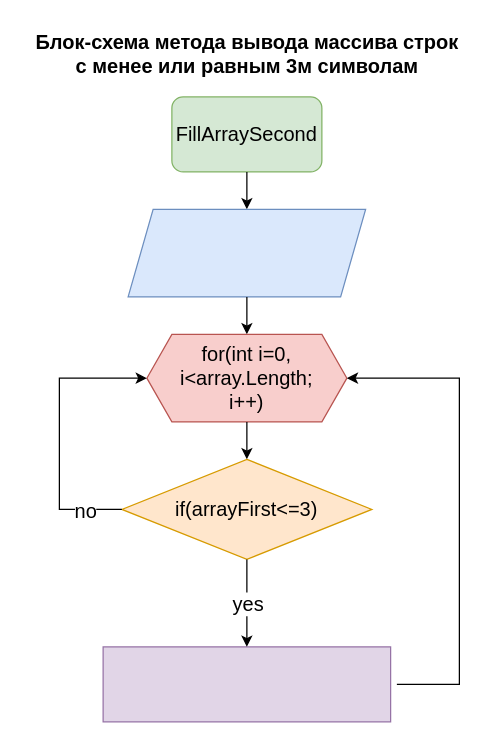
Some shapes in this 493 by 744 pixel diagram are drawn without their labels. Each missing label, with the centre of its shape:
"arraySecond[count] = arrayFirst count++" goes at pixel 246 684.
"string[] arrayFirst string[] arraySecond int count = 1" goes at pixel 246 252.
